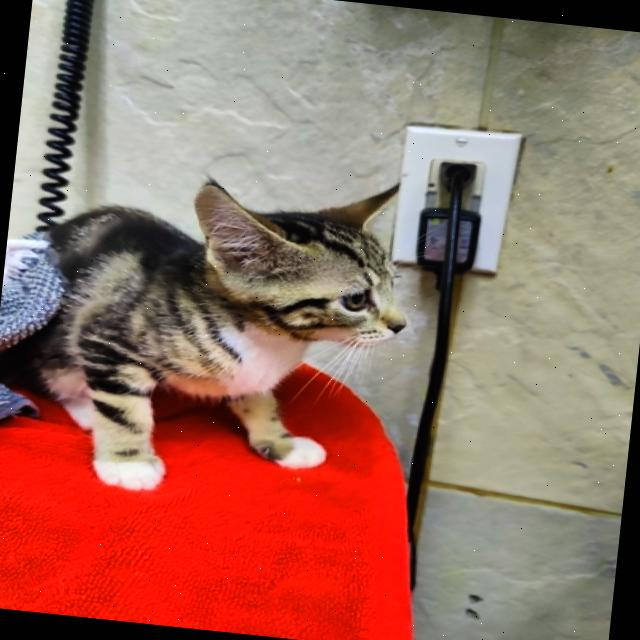domestic_short_hair_cat: (144, 150, 438, 386)
